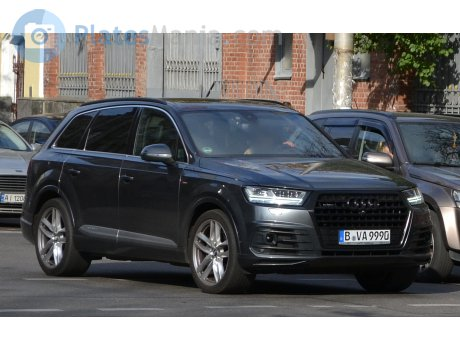License Plates: (344, 228, 395, 240)
